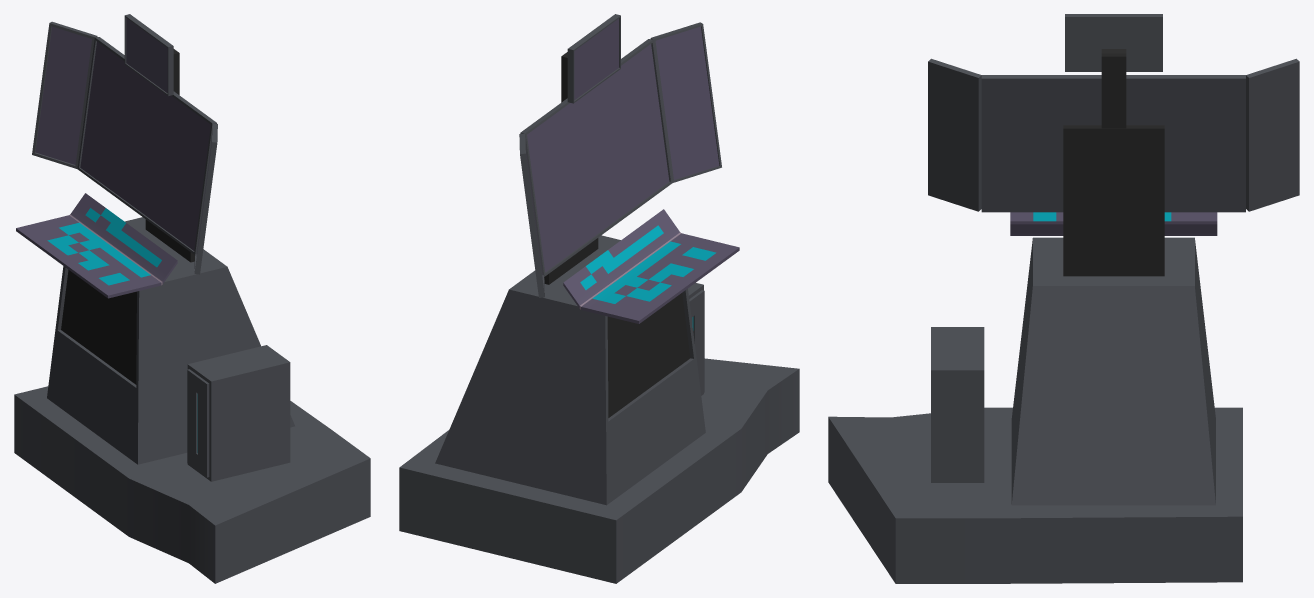
Rendered from comp.fbx.
3 views of the same model, side by side, from view 1: azimuth 30°, elevation 25°; view 2: azimuth 150°, elevation 25°; view 3: azimuth 270°, elevation 25° (orthographic). The views are drawn at different scales.
Visible parts, largest first — view 1: pCube15, polySurface4, pCube9, polySurface1, pCube16; view 2: pCube15, polySurface4, pCube9, polySurface1, pCube16; view 3: pCube15, polySurface1, pCube16, pCube9.
Boxes of the visible parts, left/top/right/bottom form: pCube15: left=14, top=217, right=370, bottom=583; polySurface4: left=35, top=18, right=211, bottom=255; pCube9: left=16, top=193, right=177, bottom=298; polySurface1: left=32, top=14, right=217, bottom=274; pCube16: left=145, top=49, right=194, bottom=262; pCube15: left=399, top=235, right=799, bottom=583; polySurface4: left=526, top=18, right=719, bottom=277; pCube9: left=563, top=209, right=739, bottom=323; polySurface1: left=519, top=14, right=721, bottom=297; pCube16: left=544, top=52, right=598, bottom=284; pCube15: left=828, top=237, right=1242, bottom=583; polySurface1: left=928, top=14, right=1299, bottom=212; pCube16: left=1063, top=49, right=1164, bottom=276; pCube9: left=1010, top=212, right=1217, bottom=235.
Size of the model in its own units: 134 by 270 by 231.
